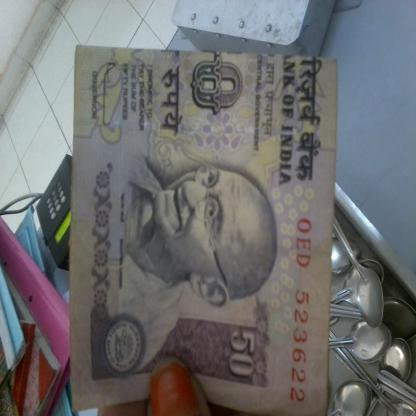Old50Front: (69, 46, 339, 416)
